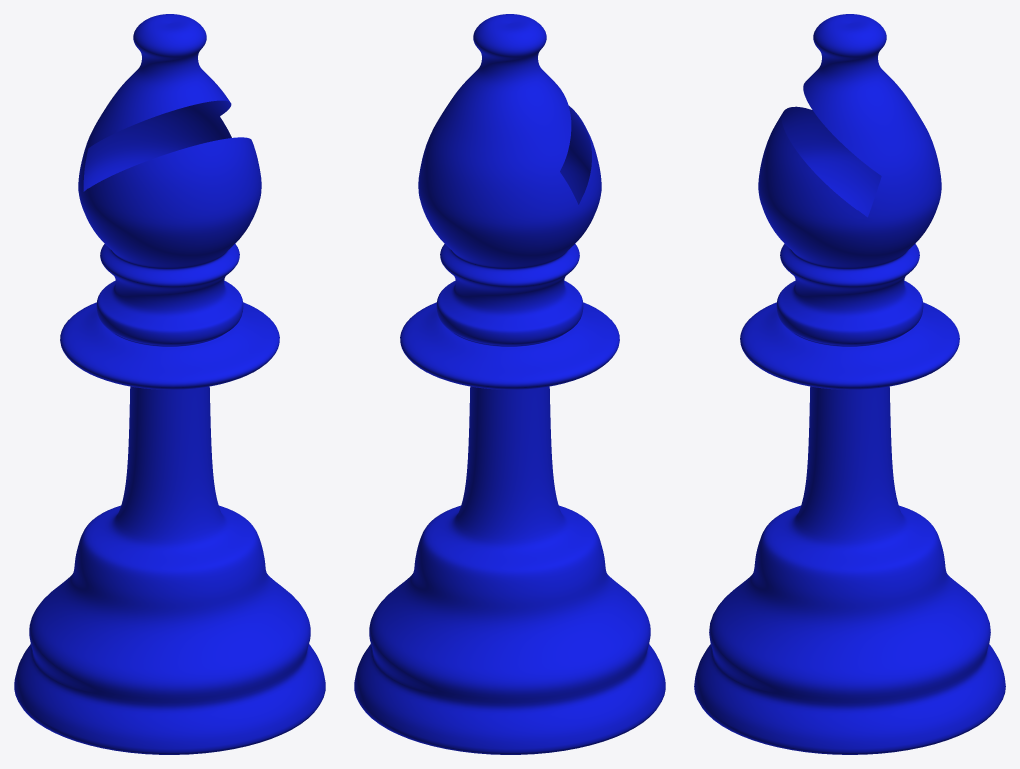
File: bishop.gltf
3 views of the same model, side by side, from view 1: azimuth 30°, elevation 25°; view 2: azimuth 150°, elevation 25°; view 3: azimuth 270°, elevation 25° (orthographic).
Visible parts, largest first — view 1: Vert.015; view 2: Vert.015; view 3: Vert.015.
Boxes of the visible parts, x1,y1,x2,y2 form: Vert.015: (14,14,325,754); Vert.015: (354,14,665,754); Vert.015: (694,14,1005,754).
Bounding box in the file's own units: 10.3 × 24.61 × 10.3.
